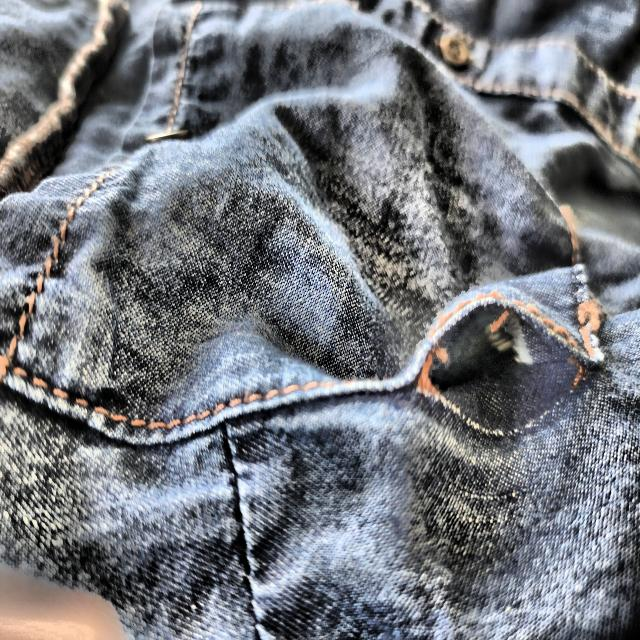seam: (404, 282, 599, 451)
